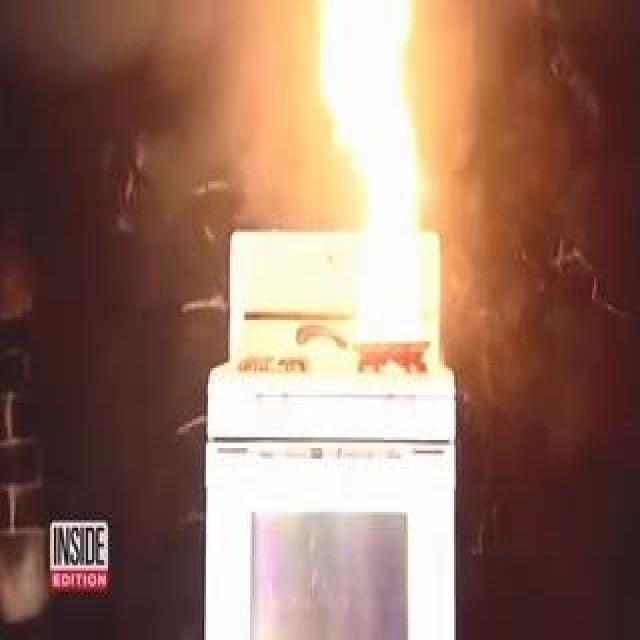Fire: (316, 3, 450, 357)
